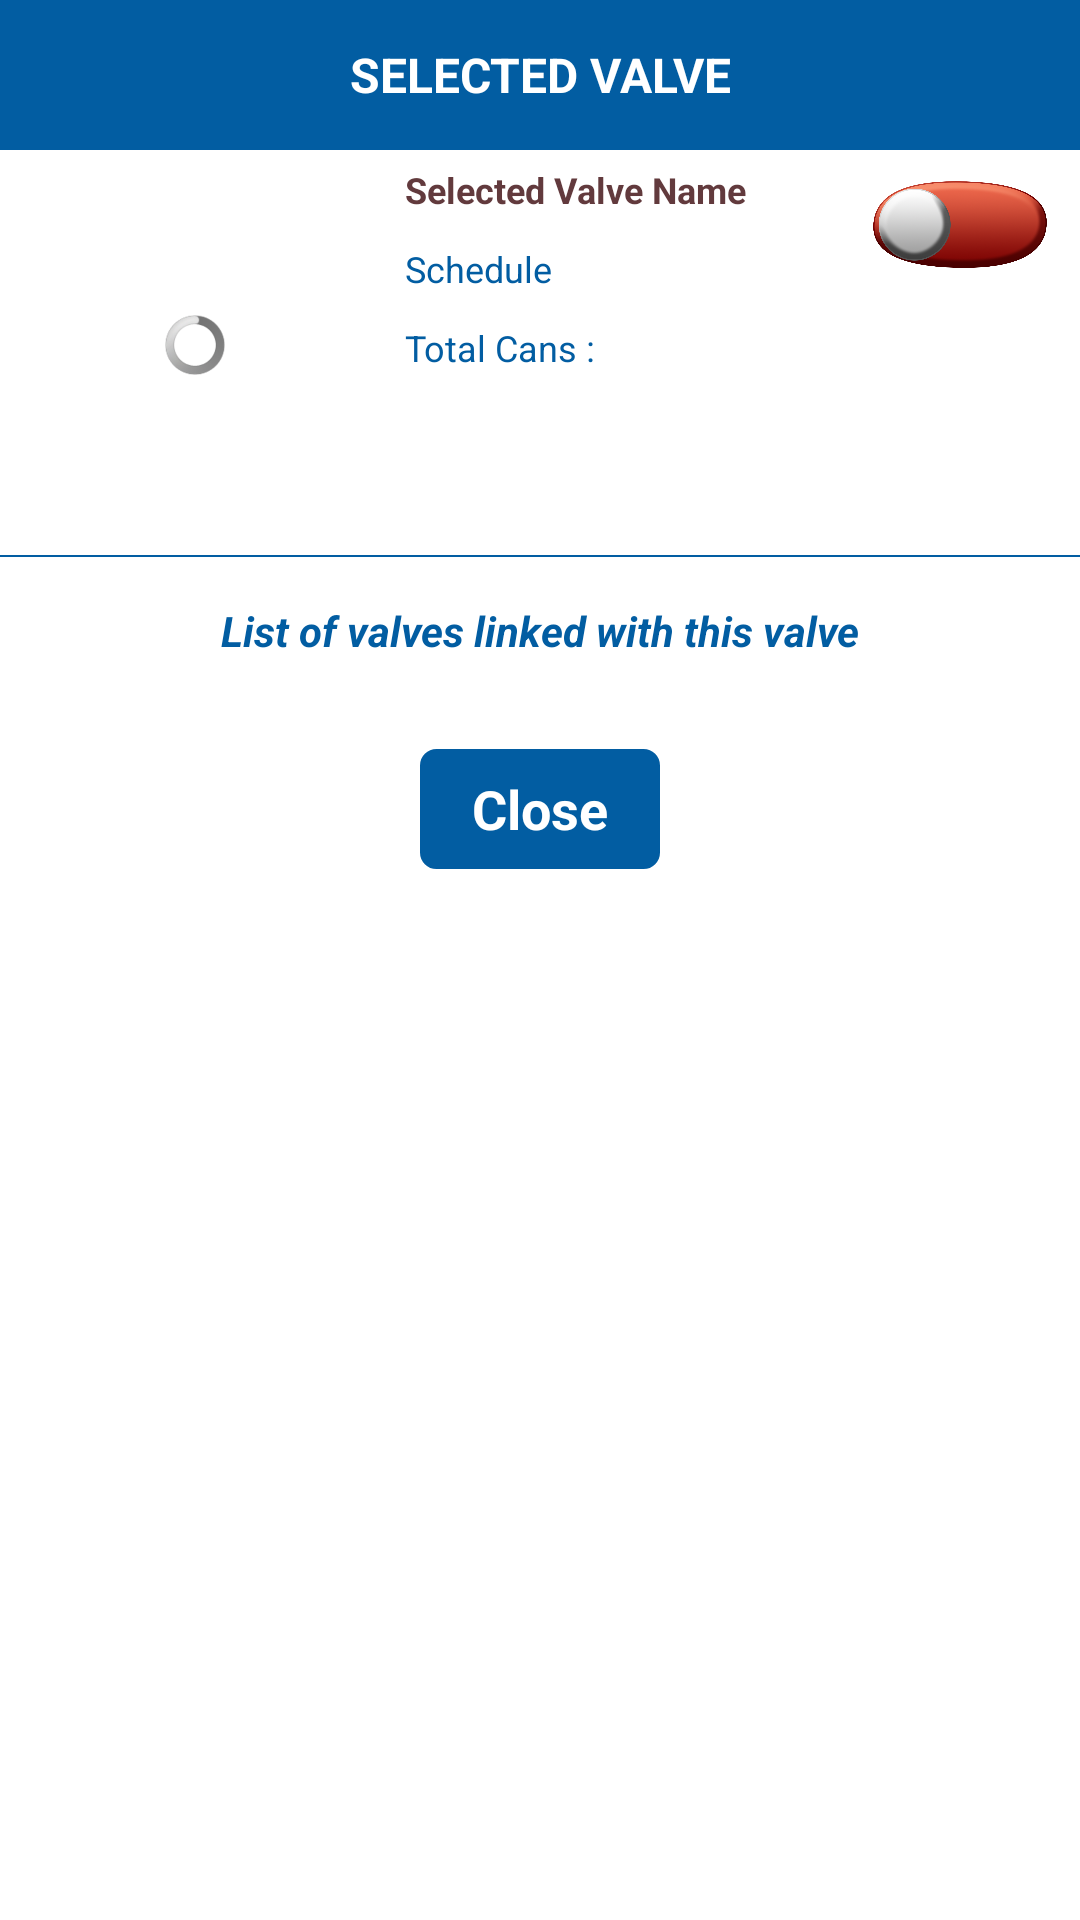

Where icons sit on this 1080 × 1920 app screen, as [x1,y1,x2,y2]:
valve close: [873,181,1047,268]
